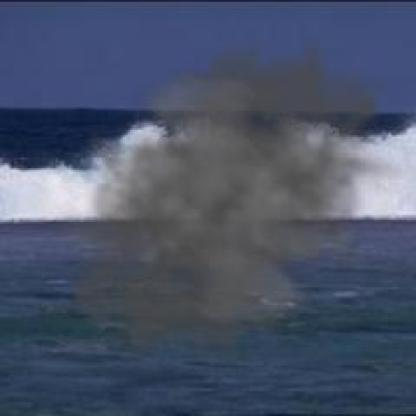Smoke: (44, 16, 407, 384)
